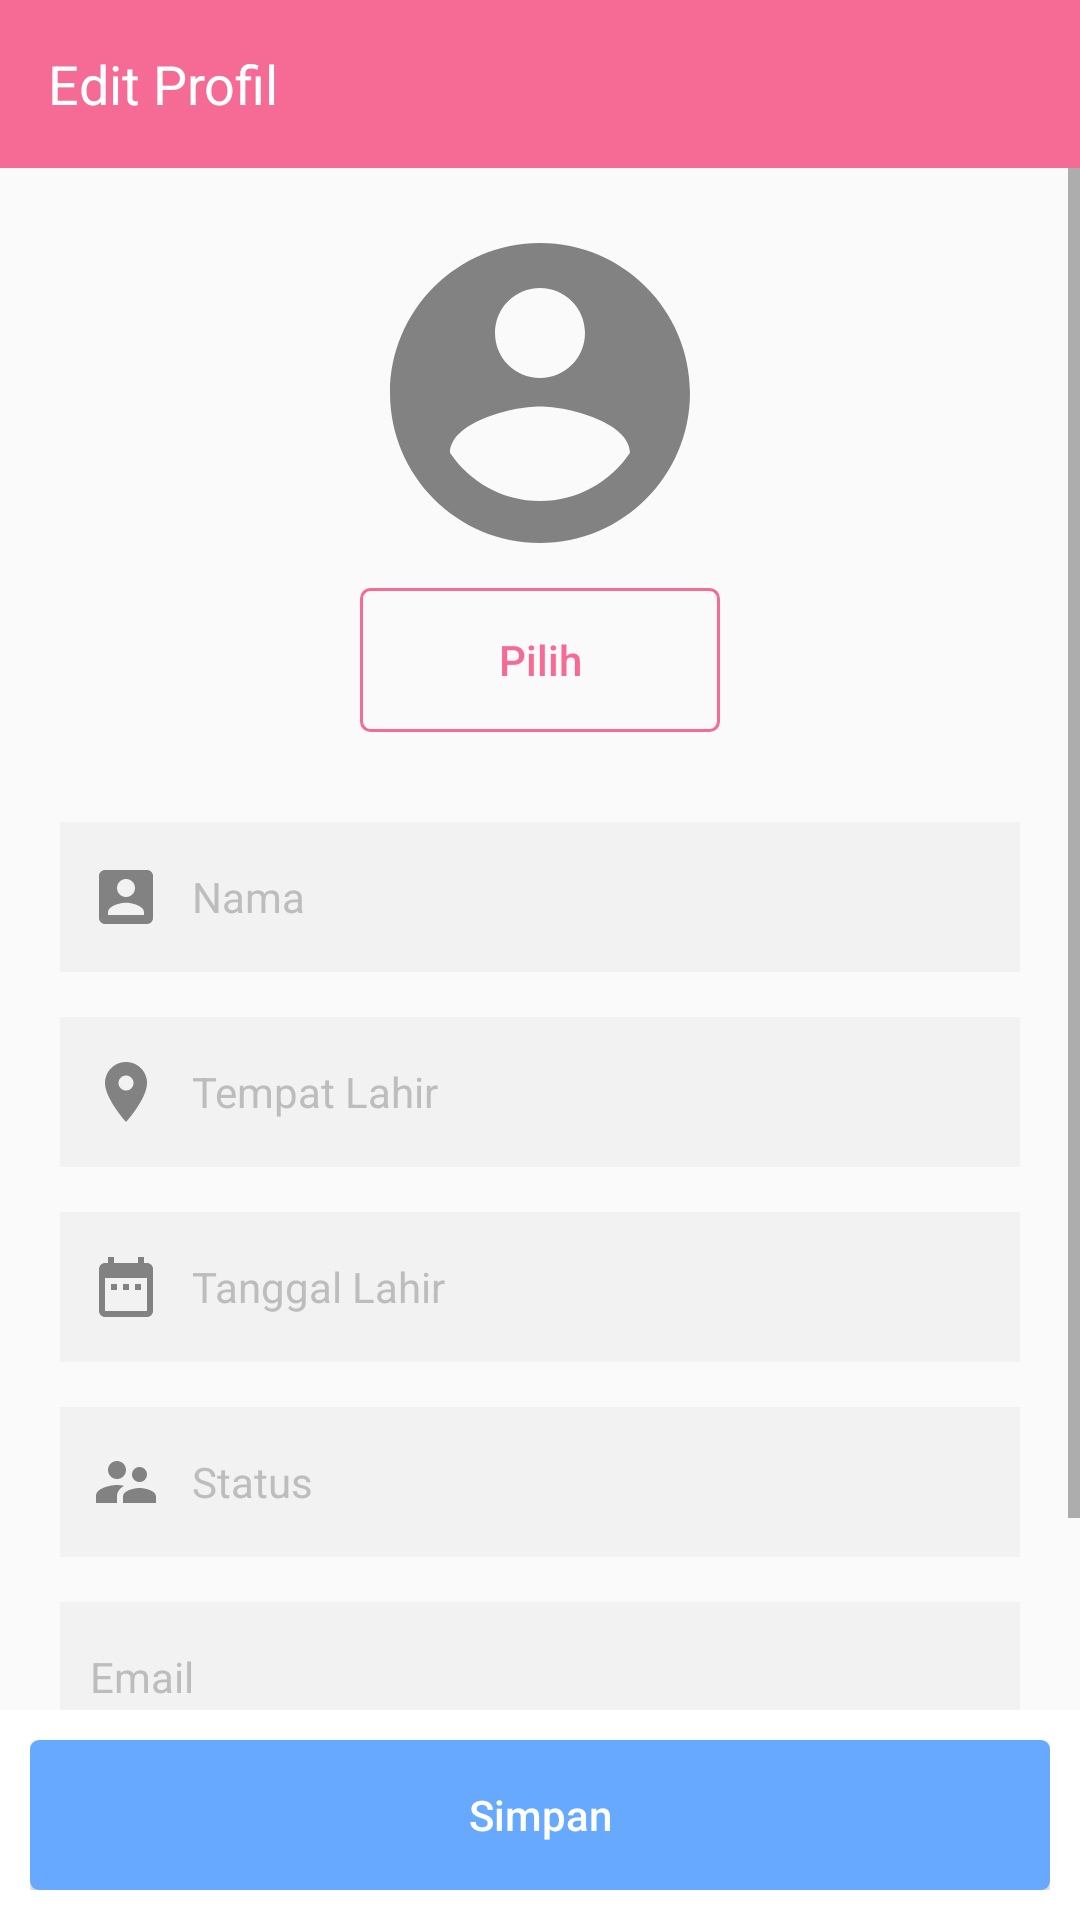

Screen size 1080 x 1920. Icon name, then its center in pixels as (x=x, y=y):
account circle: (x=540, y=393)
